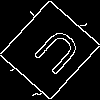U: (25, 25, 84, 84)
